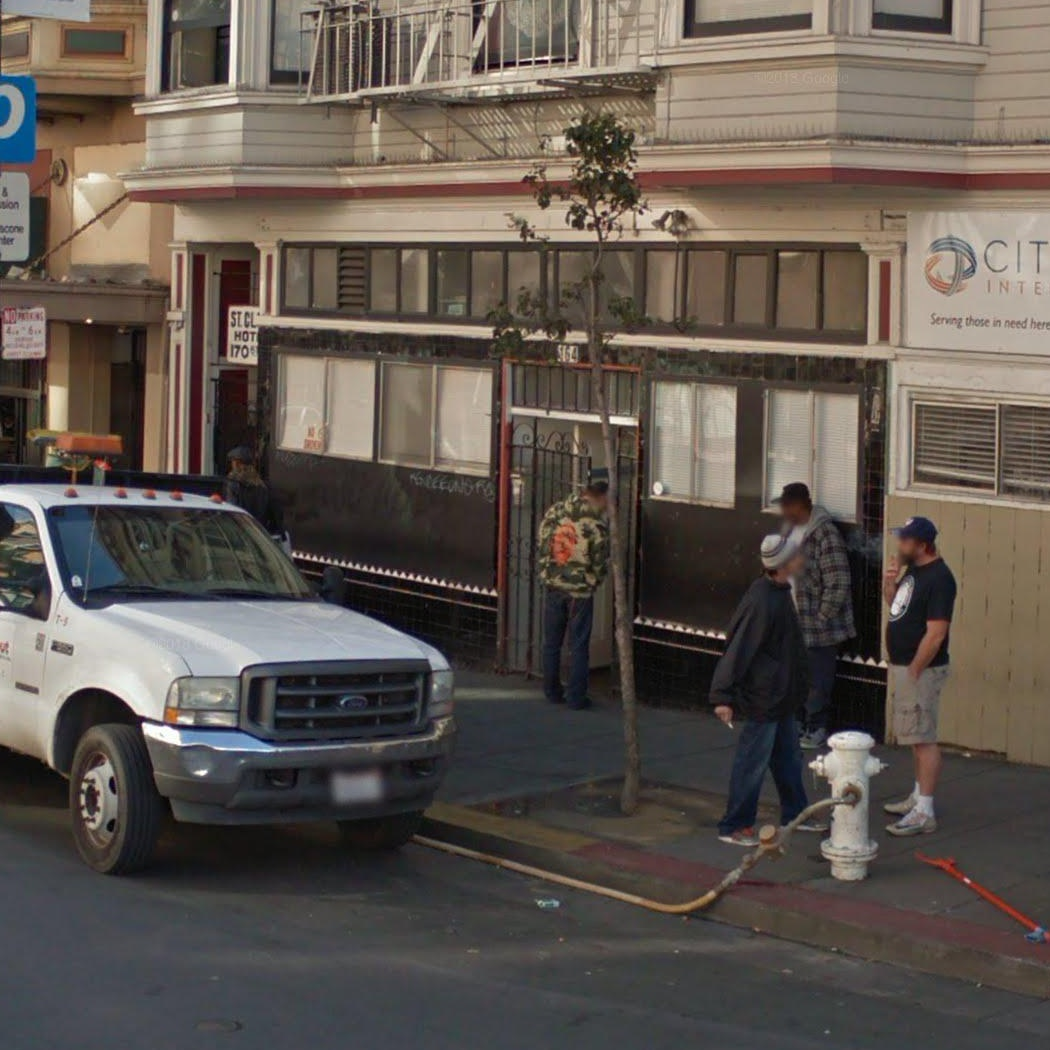No Parking: (0, 304, 49, 362)
